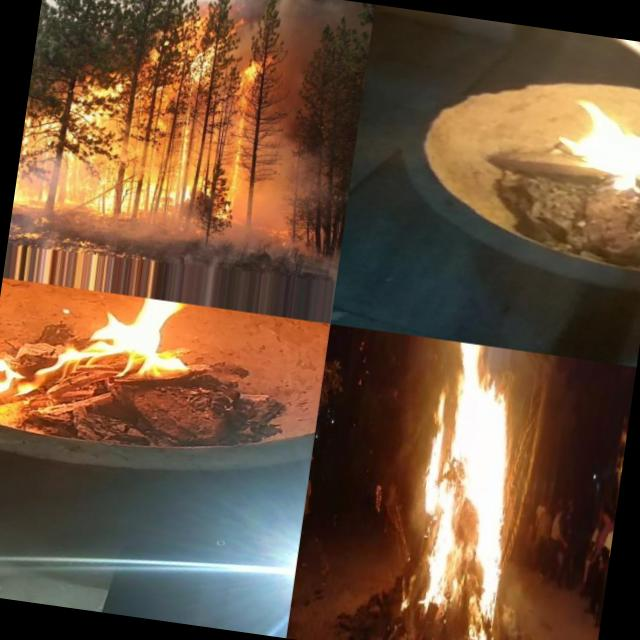fire: (400, 339, 531, 640), (0, 278, 217, 438), (173, 12, 236, 214), (21, 59, 130, 160), (555, 102, 640, 213), (220, 41, 271, 220), (30, 160, 99, 219)
smoke: (216, 0, 364, 55)
